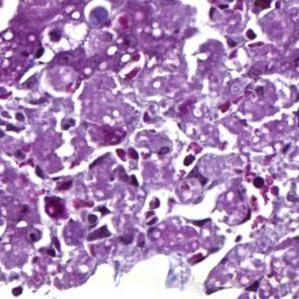inflammation: (34, 15, 89, 62)
